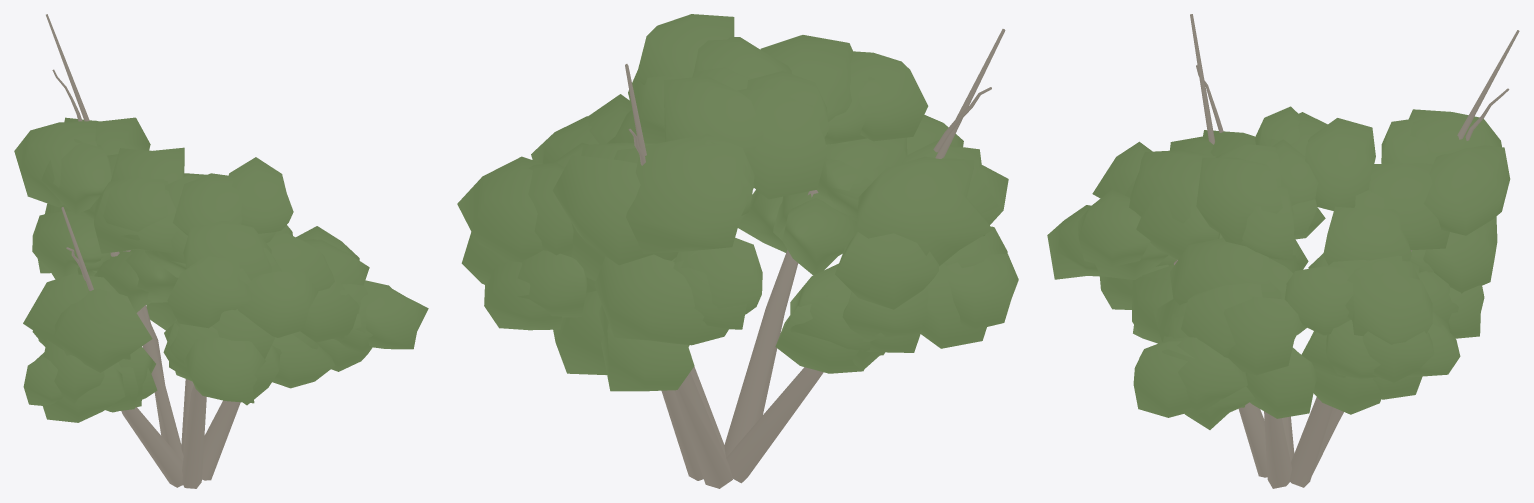
The model's file is Blender_UtahJuniper_1.glb.
3 views of the same model, side by side, from view 1: azimuth 30°, elevation 25°; view 2: azimuth 150°, elevation 25°; view 3: azimuth 270°, elevation 25° (orthographic). The views are drawn at different scales.
Parts seen in each view (by area): view 1: Blender_UtahJuniper_1; view 2: Blender_UtahJuniper_1; view 3: Blender_UtahJuniper_1.
Part boxes in pixels (left/top/right/bottom): Blender_UtahJuniper_1: left=14, top=14, right=428, bottom=488; Blender_UtahJuniper_1: left=457, top=14, right=1018, bottom=488; Blender_UtahJuniper_1: left=1047, top=14, right=1519, bottom=488.
Size of the model in its own units: 5.72 by 5.75 by 5.69.
